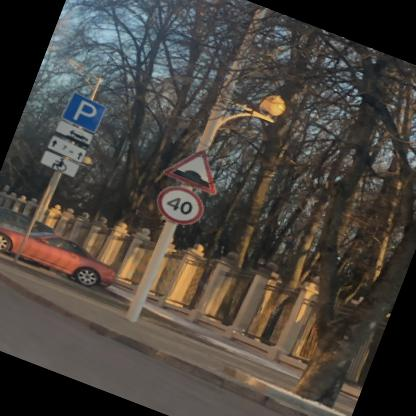speedlimit: (148, 178, 206, 230)
